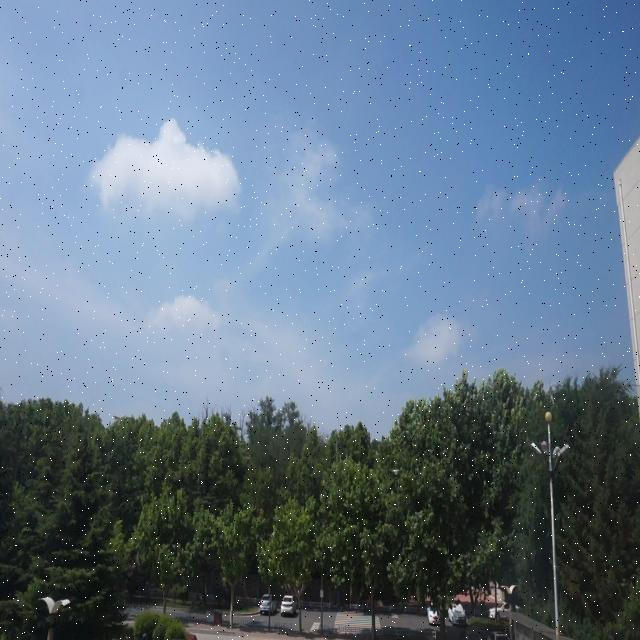UAV: (392, 468, 400, 474)
